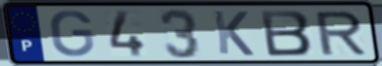3: (158, 7, 201, 61)
4: (107, 9, 149, 59)
B: (258, 9, 315, 58)
G: (48, 9, 97, 59)
K: (210, 9, 257, 58)
R: (312, 9, 368, 57)
